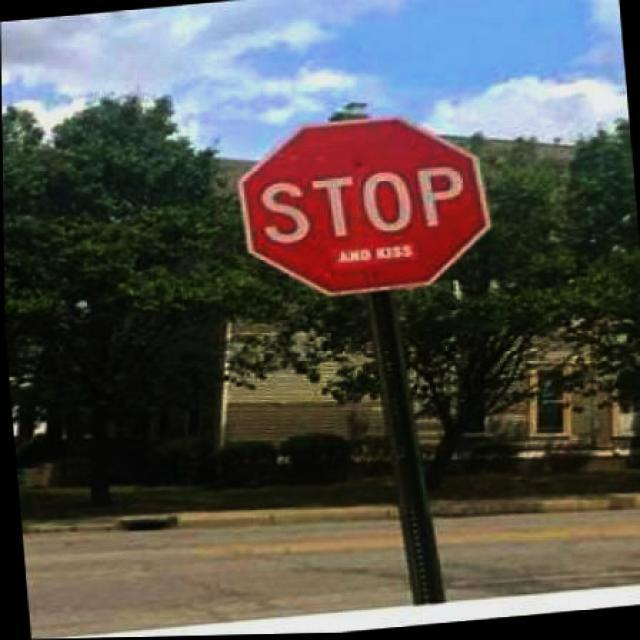Stop-Sign: (239, 117, 490, 296)
